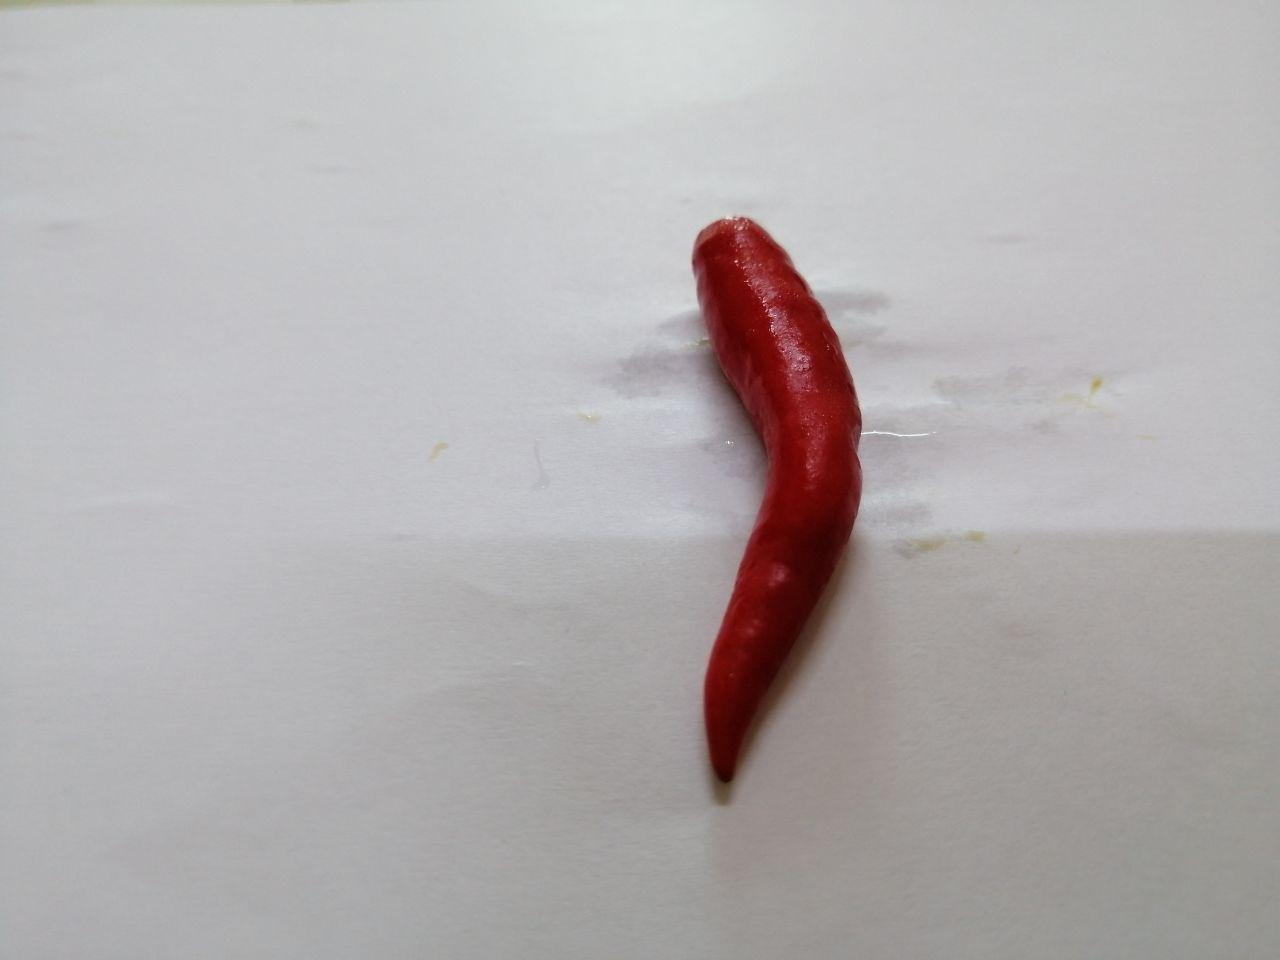lada merah: (624, 189, 884, 815)
